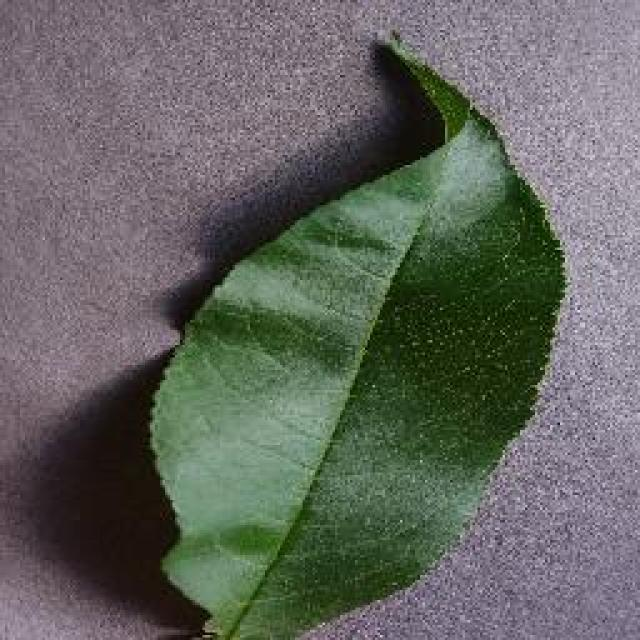Pea_healthy: (170, 110, 550, 588)
